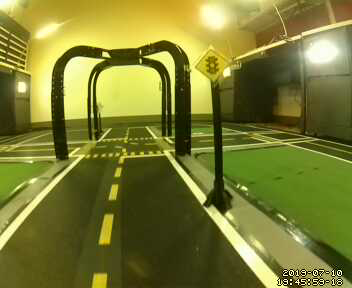Traffic light sign: (195, 48, 232, 82)
